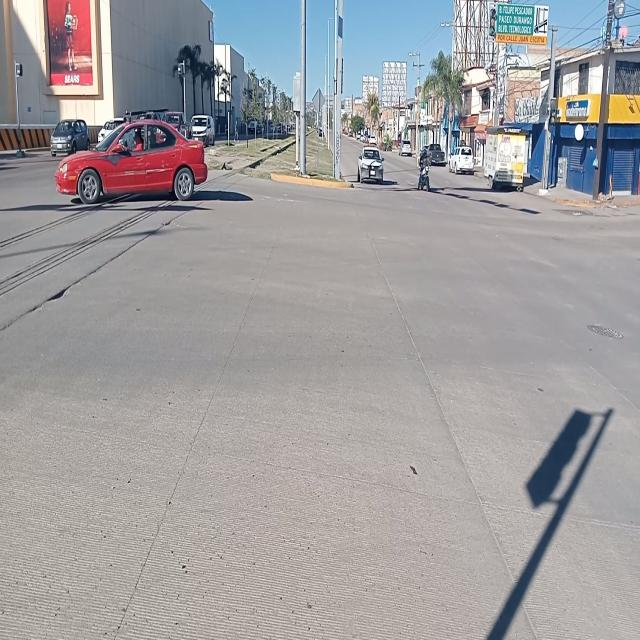Auto: (60, 114, 210, 204), (482, 130, 531, 190), (356, 144, 384, 190)
